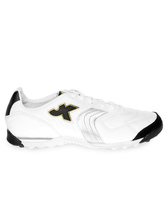shoes: (4, 86, 166, 150)
